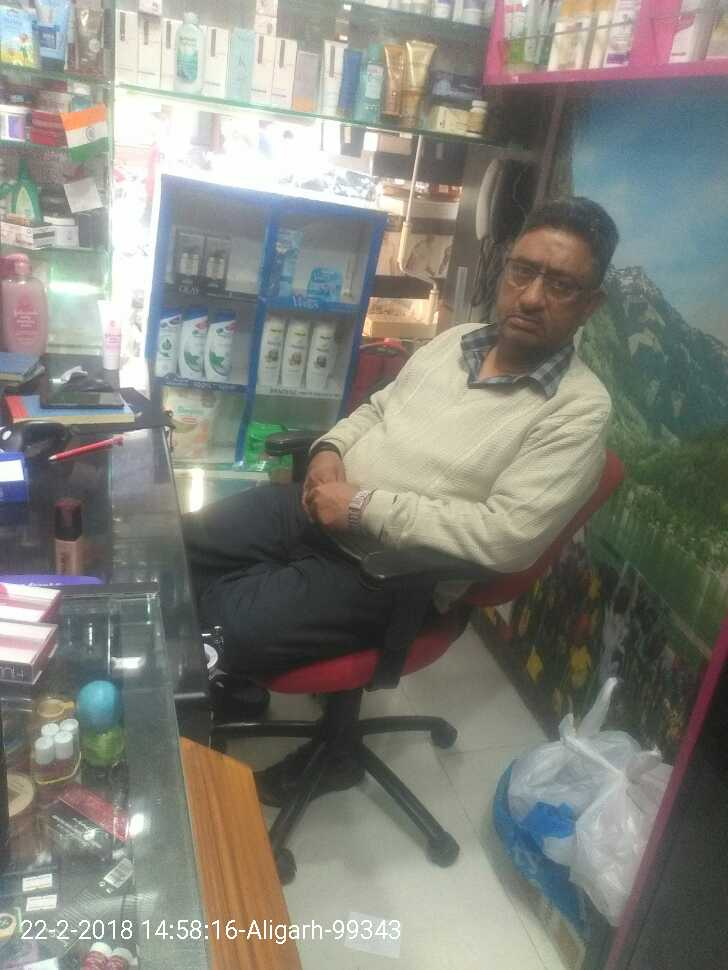venus: (274, 230, 298, 293), (311, 270, 340, 296)
